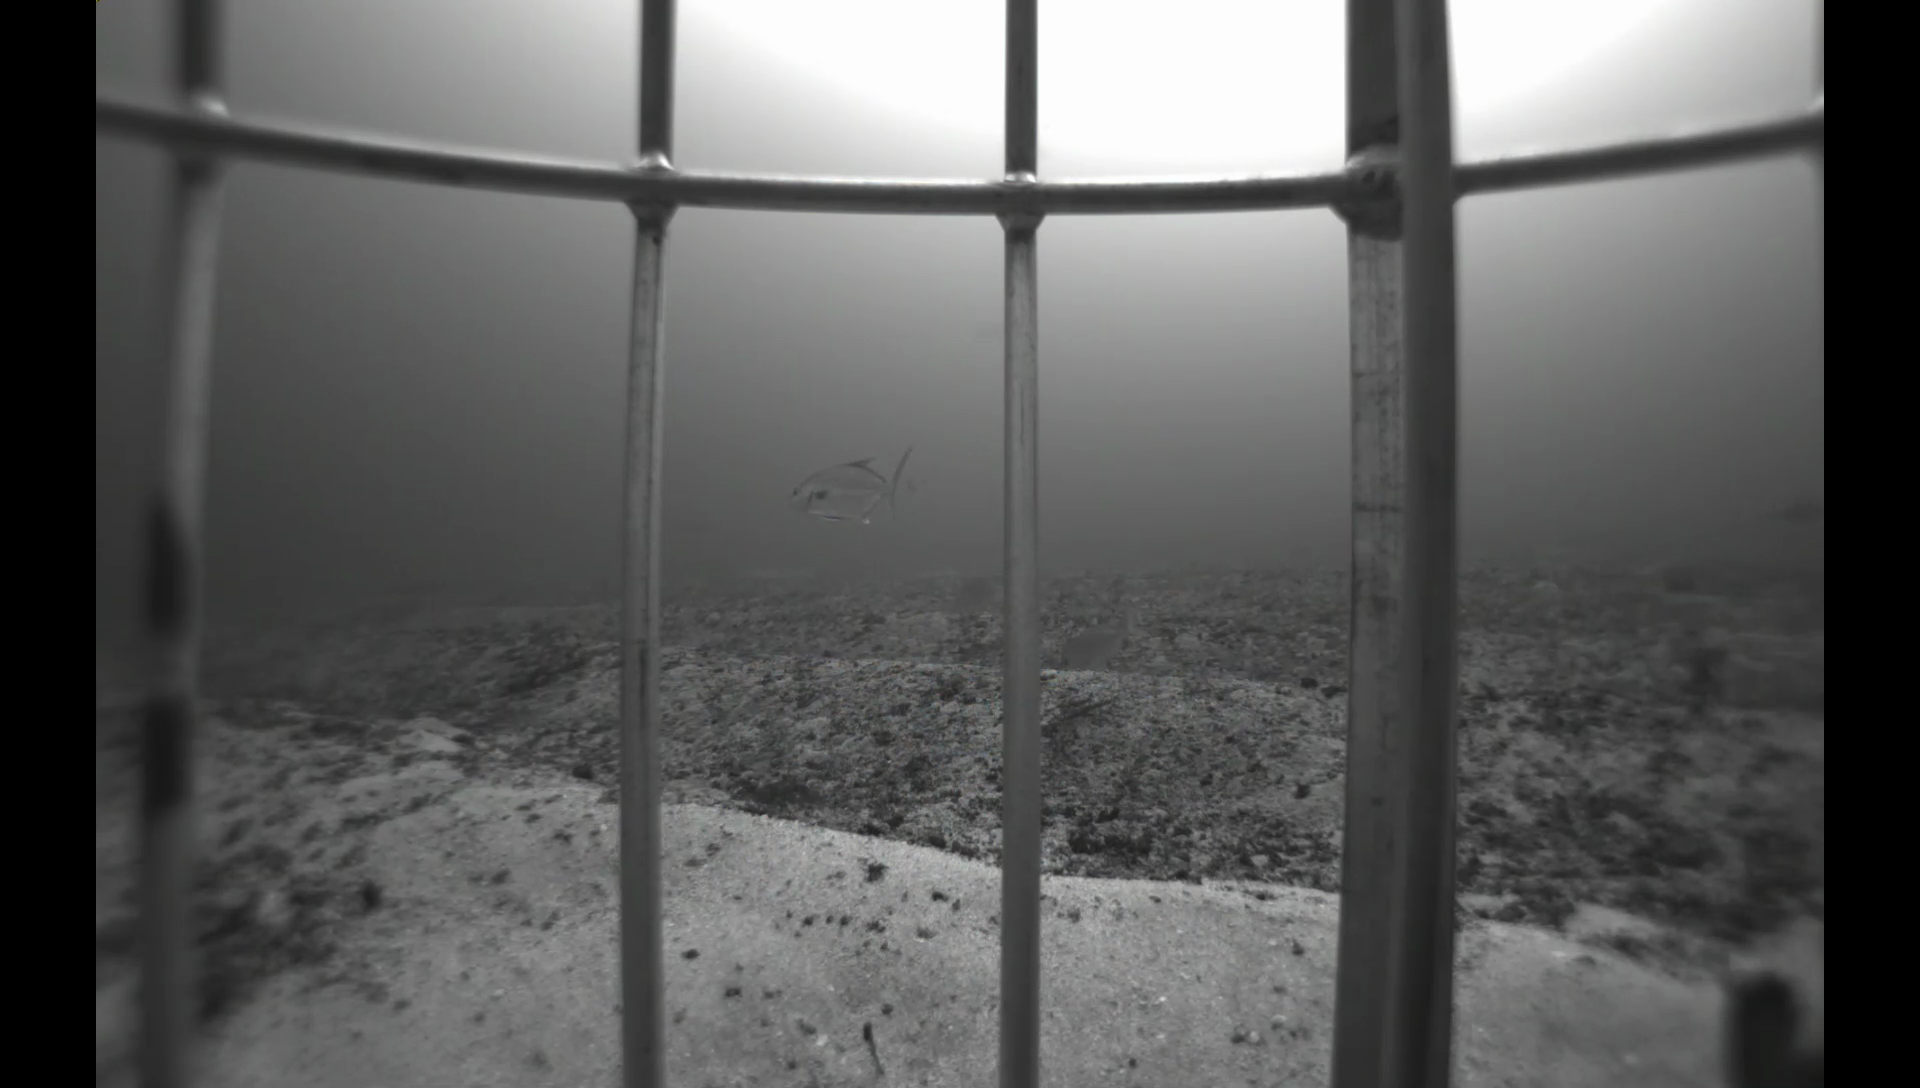CALAMUS-170210600: (1058, 611, 1141, 674), (944, 570, 1002, 622)
EPINEPHELUSMORIO-170021211: (1693, 952, 1824, 1088), (1751, 492, 1822, 530)
RHOMBOPLITESAURORUBENS-170152001: (899, 473, 922, 499)
SERIOLARIVOLIANA-170113105: (781, 440, 928, 534)
